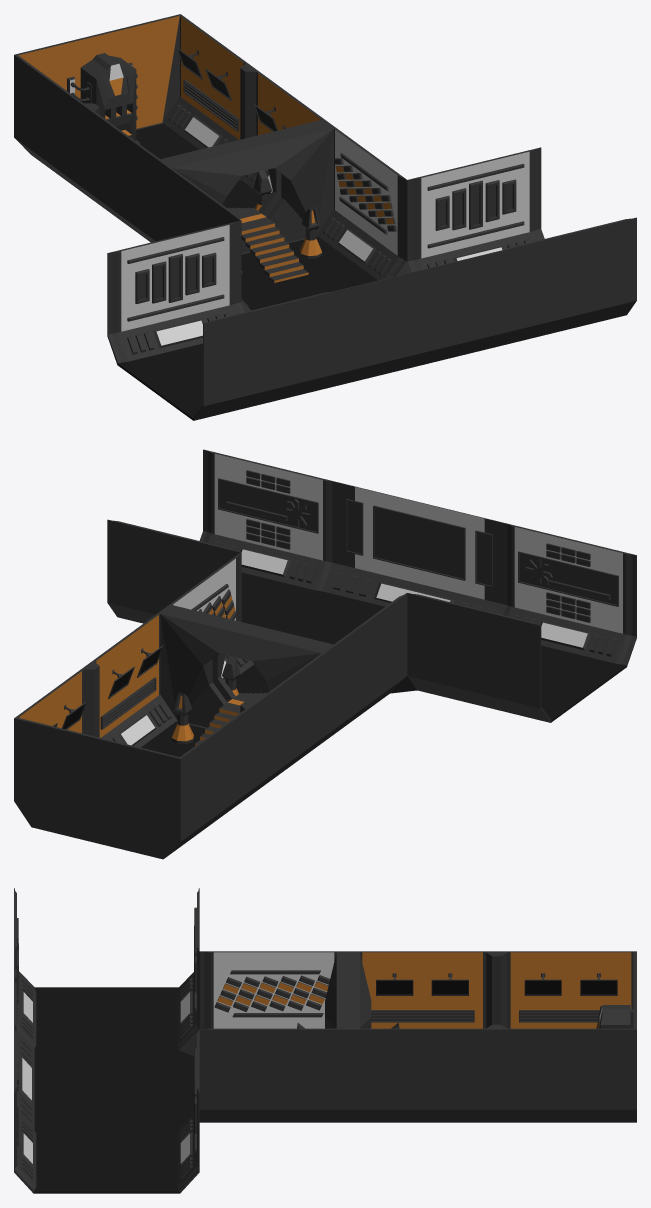
Rendered from Upgrade-stuk.fbx.
3 renders of one model, top to bottom at view 1: azimuth 30°, elevation 25°; view 2: azimuth 150°, elevation 25°; view 3: azimuth 270°, elevation 25°, orthographic. The views are drawn at different scales.
Visible parts, largest first — view 1: Upgrade_stuk; view 2: Upgrade_stuk; view 3: Upgrade_stuk.
Part boxes in pixels (x1,y1,x2,y2): Upgrade_stuk: [14, 14, 636, 420]; Upgrade_stuk: [14, 449, 636, 859]; Upgrade_stuk: [14, 888, 636, 1193].
Bounding box in the file's own units: 2600 × 600 × 3355.
